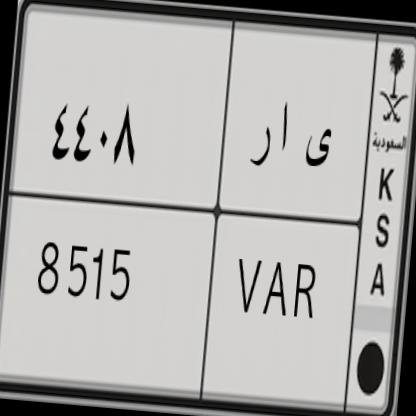english: (0, 175, 367, 413)
